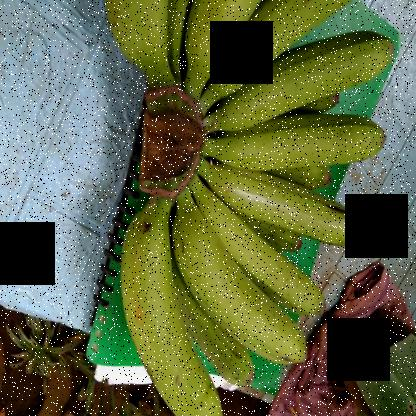freshunripe: (169, 198, 314, 376), (231, 28, 396, 150), (189, 192, 333, 328), (209, 1, 377, 103), (208, 122, 386, 180), (182, 1, 276, 77), (98, 1, 176, 90)
unripe: (111, 199, 222, 415), (206, 160, 367, 258)
